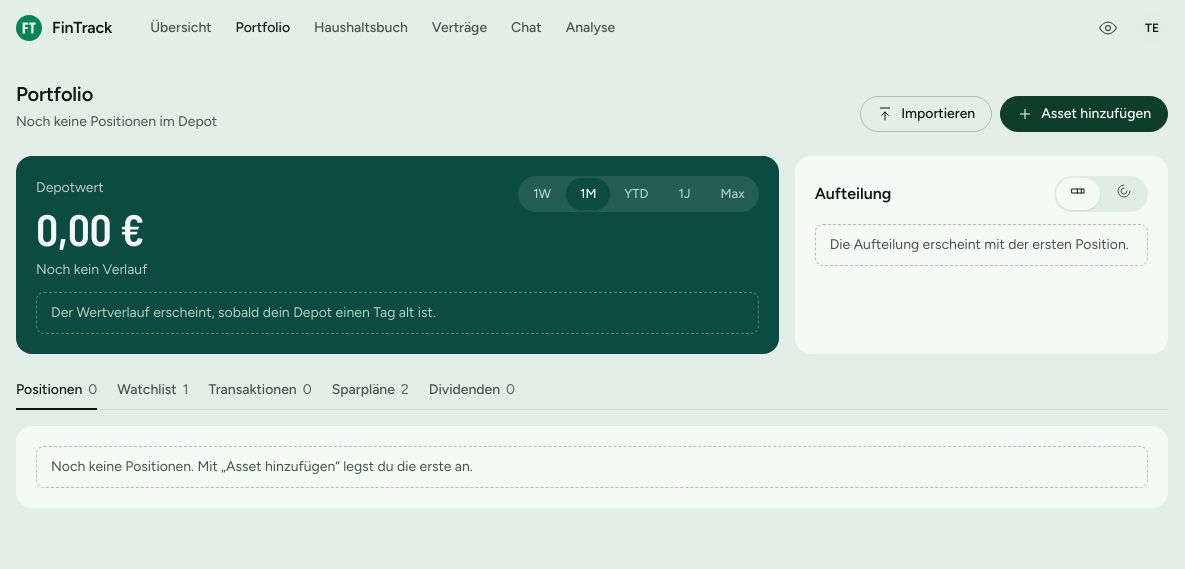
Test: Portfolio › erklärt leere Bereiche bei einem neuen Konto
The image size is (1185, 569).
Expected: the text "Noch keine Positionen im Depot" is shown, [16,113,217,130]
Expected: the text "Der Wertverlauf erscheint" is shown, [51,304,436,321]
Click the tab "Dividenden0" at (472, 390), box [429,370,515,410]
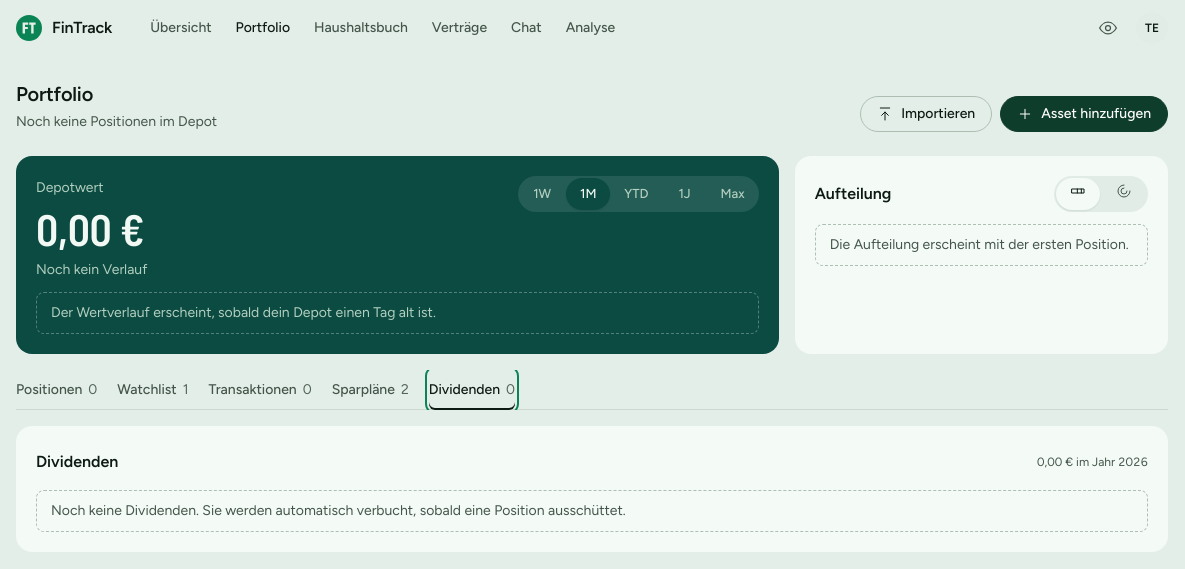
Now the text "Noch keine Dividenden" is shown, box [51,502,626,519]
